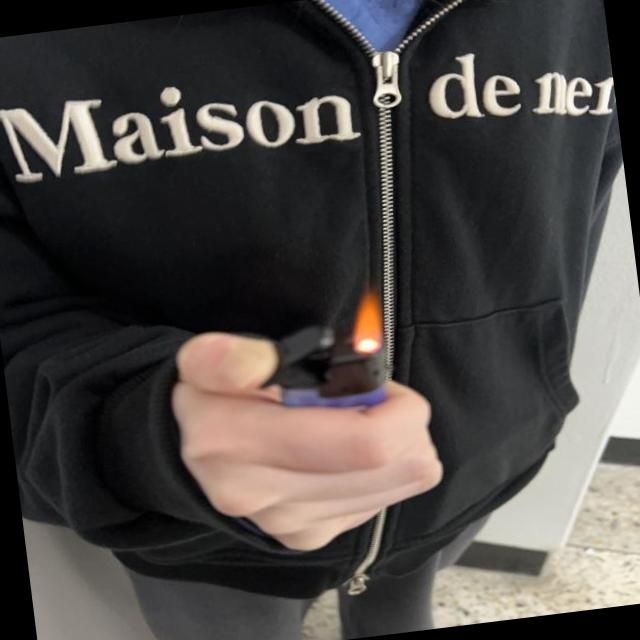Fire: (346, 284, 386, 357)
